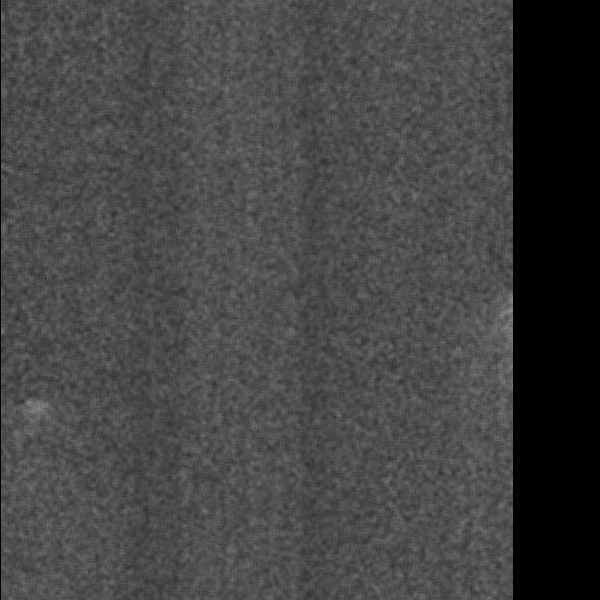spark: (395, 463, 439, 520), (111, 300, 149, 328)
